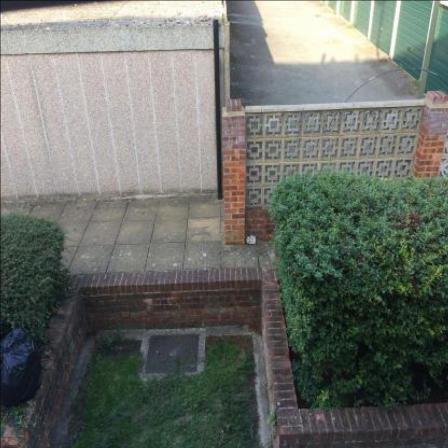Carton: (247, 236, 257, 245)
Plastic bag - wrapper: (2, 326, 44, 409)
